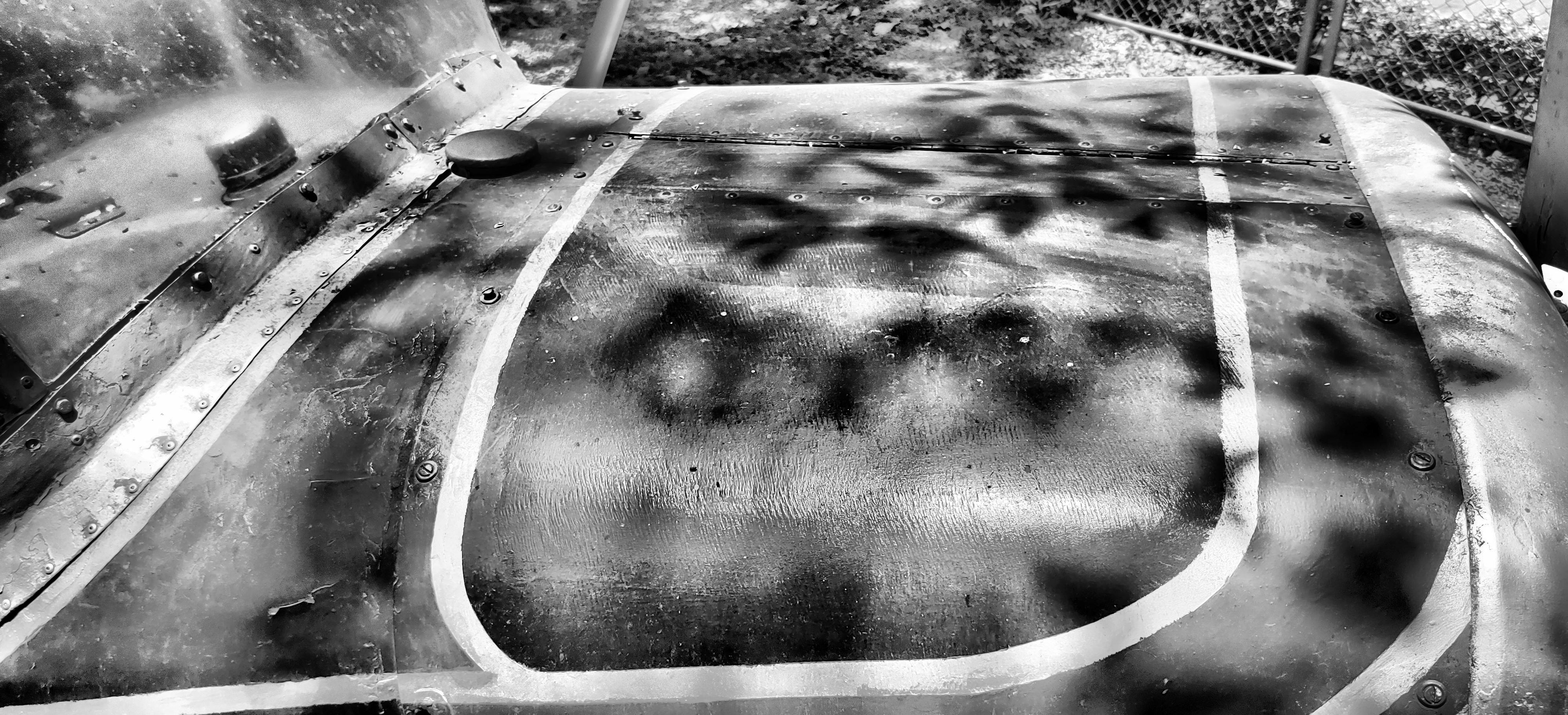missing-head: (24, 438, 41, 452)
paint-peel-off: (270, 585, 334, 617)
